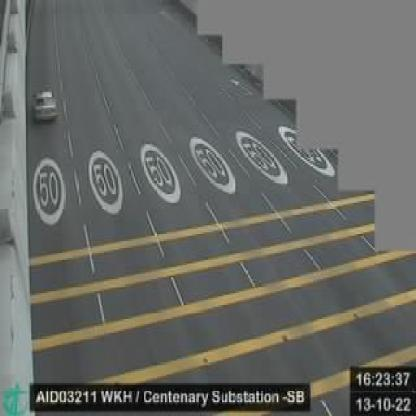Car: (32, 87, 58, 123)
